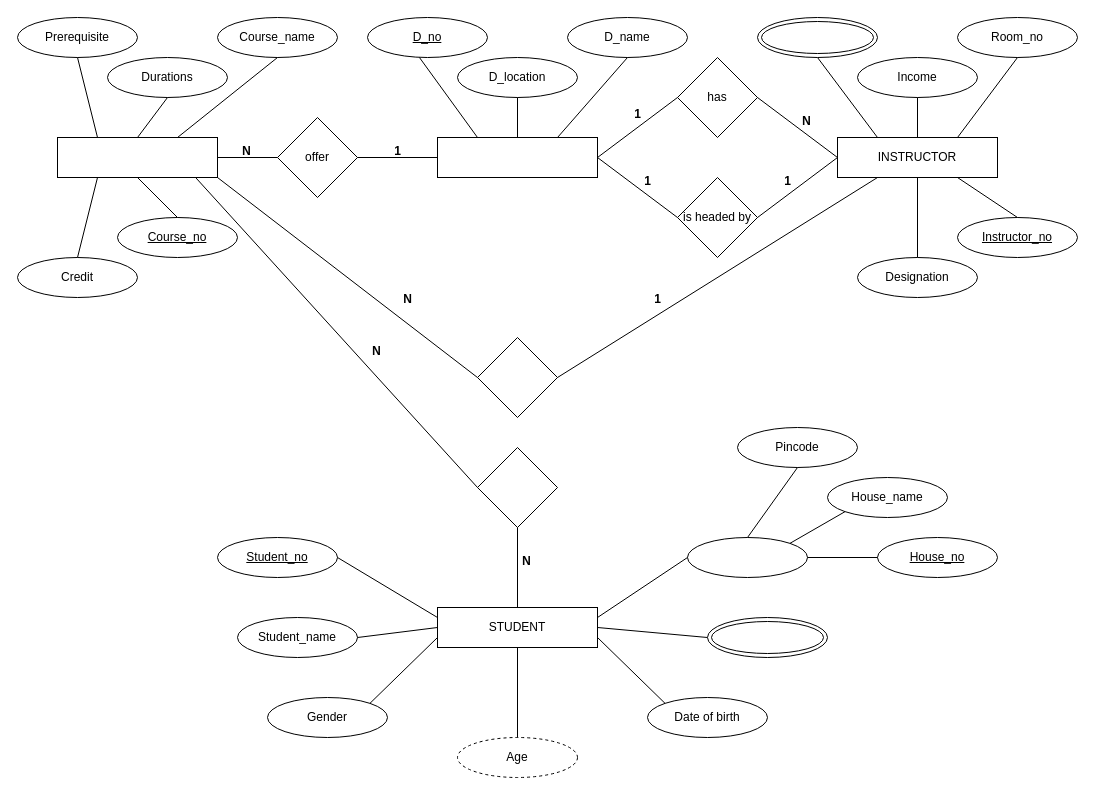
This 1095x795 diagram has some shape labels left out. The centre of each missing label's shape, as x and y in pixels:
Address: the point at 747,557
COURSE: the point at 137,157
DEPARTMENT: the point at 517,157
Email: the point at 767,637
enrolled by: the point at 517,487
is taught by: the point at 517,377
Mob_no: the point at 817,37
